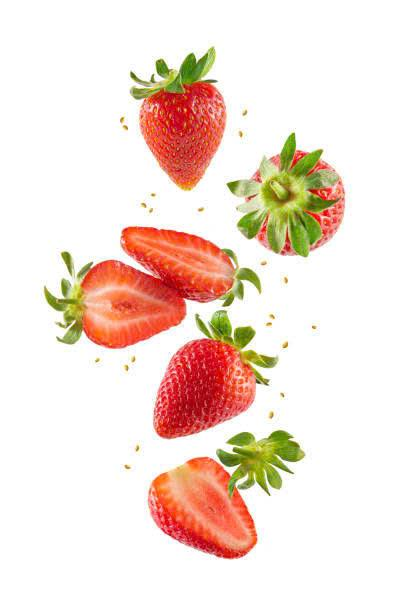strawberry: (53, 218, 250, 352), (228, 141, 352, 265), (149, 450, 265, 573), (134, 56, 230, 200), (146, 335, 267, 436)
